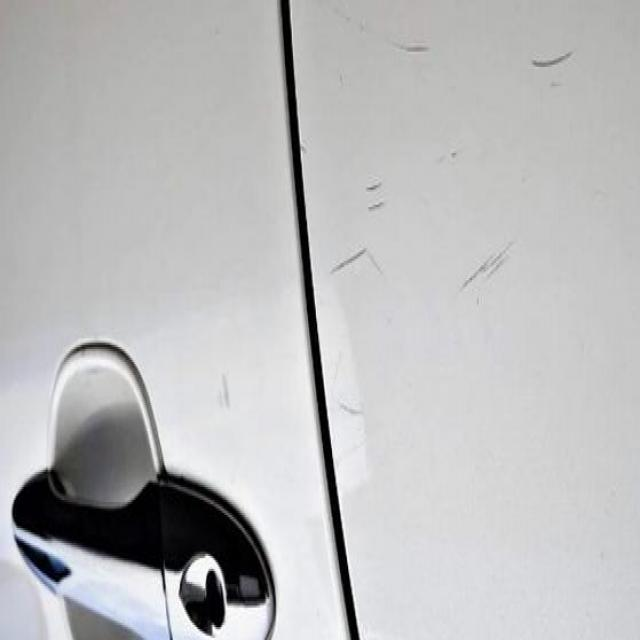scratch: (456, 242, 524, 310), (324, 236, 396, 288), (358, 160, 393, 228), (396, 22, 440, 76), (522, 45, 584, 80)
